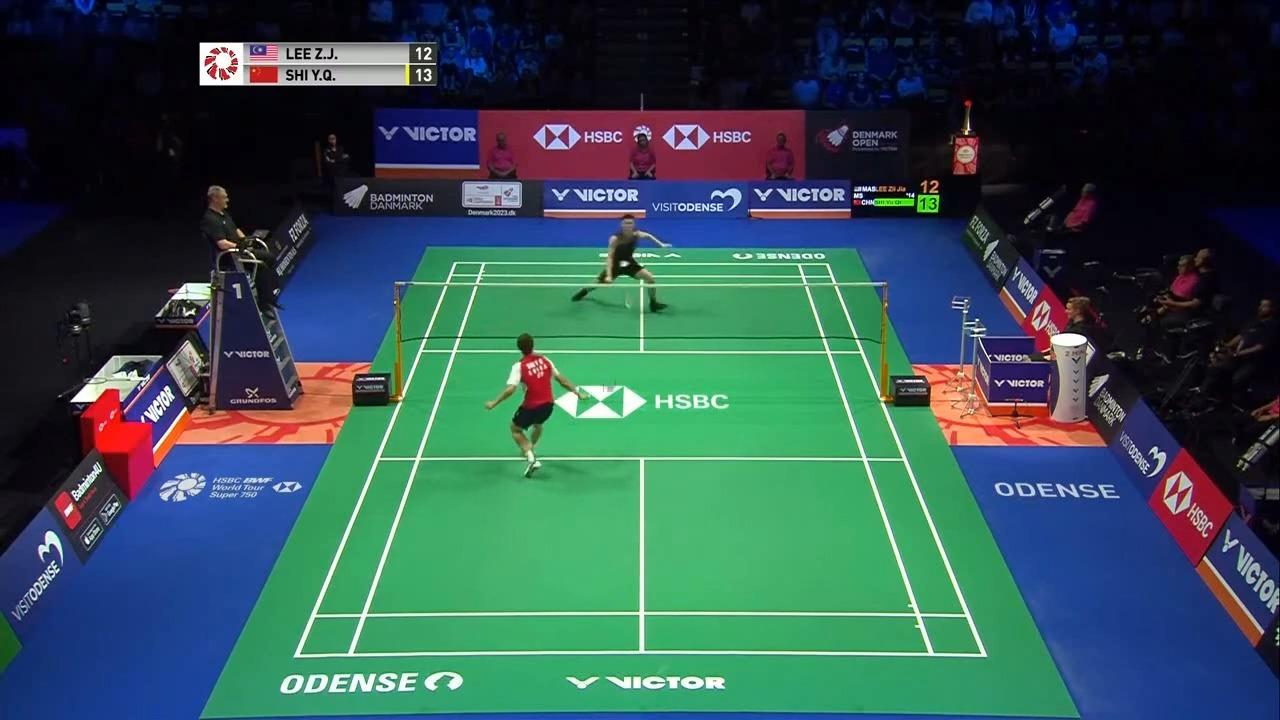shuttle: (619, 259, 630, 269)
